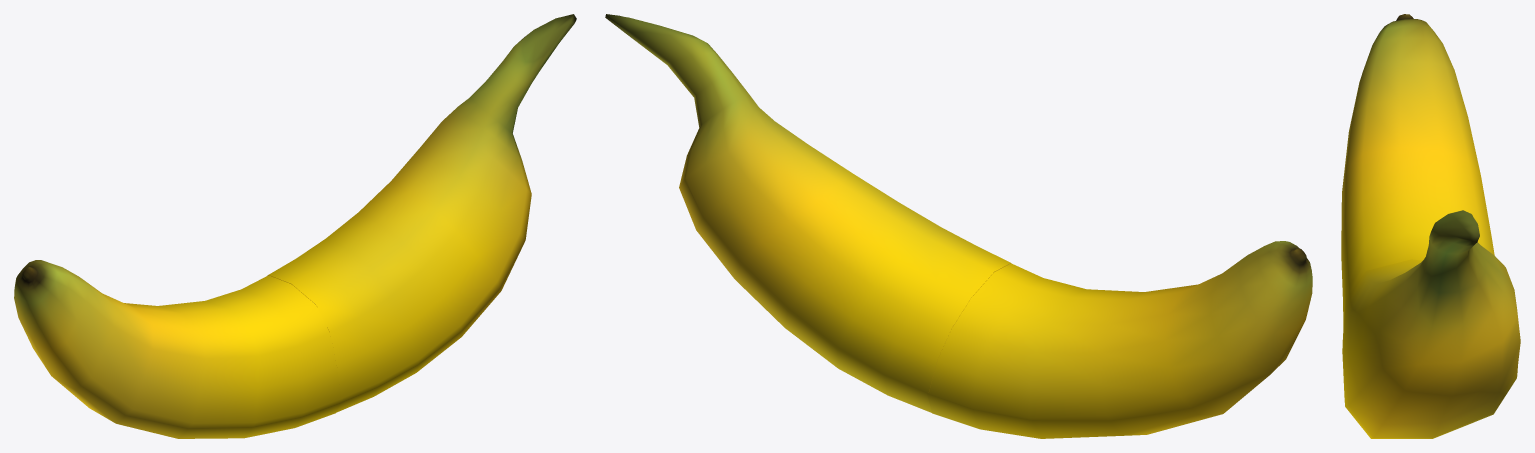
The model's file is бананишка.fbx.
The picture shows the model from 3 angles, left to right: view 1: azimuth 30°, elevation 25°; view 2: azimuth 150°, elevation 25°; view 3: azimuth 270°, elevation 25°; orthographic projection. The views are drawn at different scales.
Visible parts, largest first — view 1: правая часть.001, левая часть. внутри; view 2: правая часть.001, левая часть. внутри; view 3: правая часть.001, левая часть. внутри.
Boxes of the visible parts, x1=… form: правая часть.001: x1=268, y1=14, x2=576, y2=412; левая часть. внутри: x1=14, y1=260, x2=343, y2=438; правая часть.001: x1=605, y1=14, x2=1010, y2=412; левая часть. внутри: x1=926, y1=241, x2=1312, y2=438; правая часть.001: x1=1342, y1=210, x2=1520, y2=438; левая часть. внутри: x1=1341, y1=14, x2=1494, y2=334.
Bounding box in the file's own units: 32.57 × 15.98 × 7.44.
Materials: 4 (2 with a texture image).
